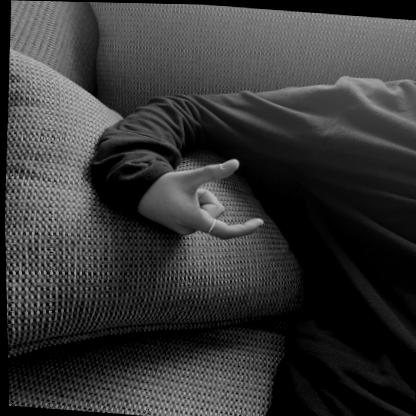G: (134, 147, 270, 244)
